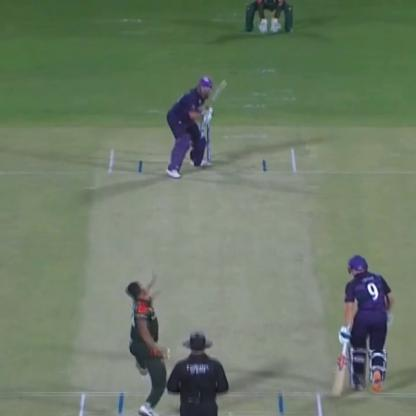ball: (330, 336, 352, 399), (203, 78, 229, 113), (161, 340, 173, 356), (162, 353, 172, 365)
pitch: (75, 151, 336, 415)
